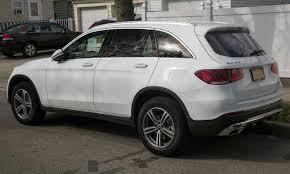mercedes: (256, 56, 266, 65)
